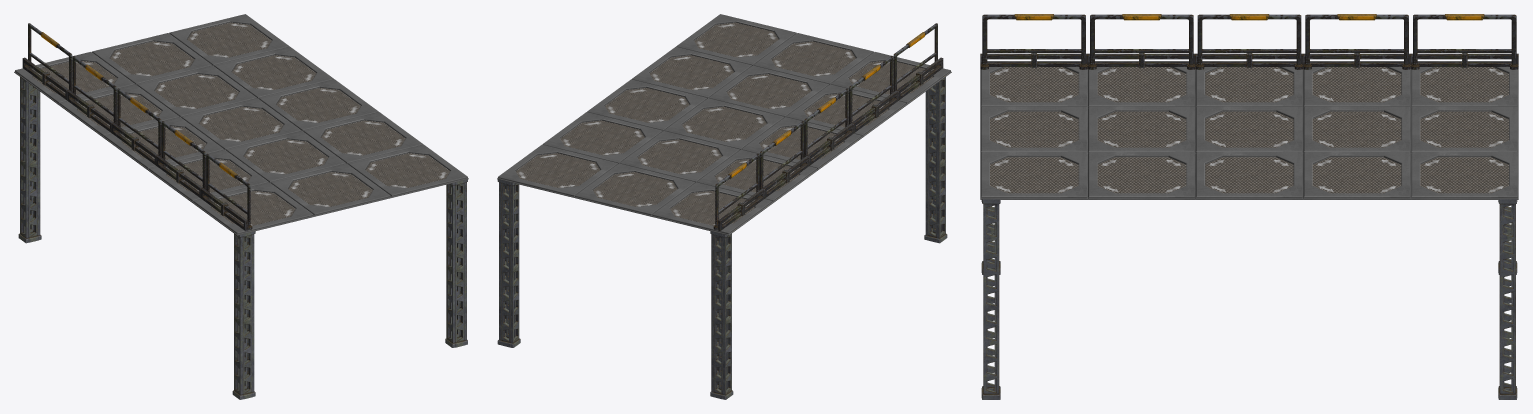
File: SM_Giant_Platform.fbx
3 renders of one model, left to right at view 1: azimuth 30°, elevation 25°; view 2: azimuth 150°, elevation 25°; view 3: azimuth 270°, elevation 25°, orthographic. The views are drawn at different scales.
Visible parts, largest first — view 1: SM_Giant_Platform_LOD0; view 2: SM_Giant_Platform_LOD0; view 3: SM_Giant_Platform_LOD0.
Part boxes in pixels (bbox=[...]): SM_Giant_Platform_LOD0: bbox=[14, 14, 468, 399]; SM_Giant_Platform_LOD0: bbox=[497, 14, 951, 399]; SM_Giant_Platform_LOD0: bbox=[980, 14, 1518, 399].
Size of the model in its own units: 601 by 1000 by 528.
Materials: 2 (2 with a texture image).
